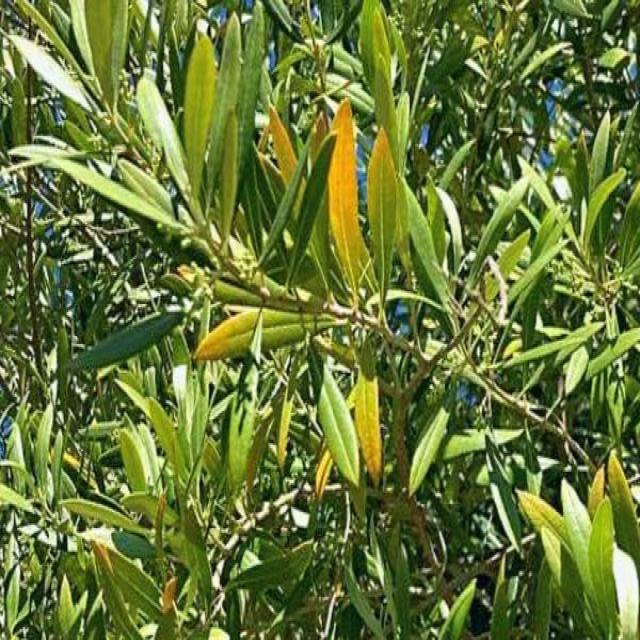Peacock Eye: (327, 99, 361, 296), (368, 131, 397, 298)
